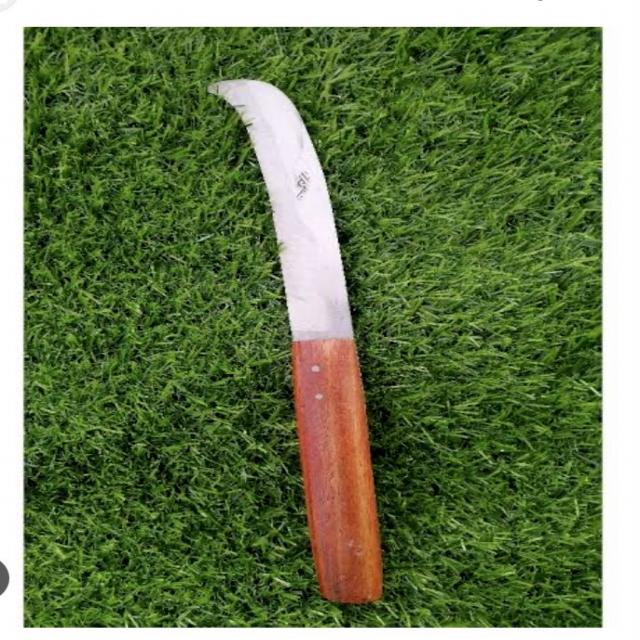knife: (192, 69, 412, 616)
